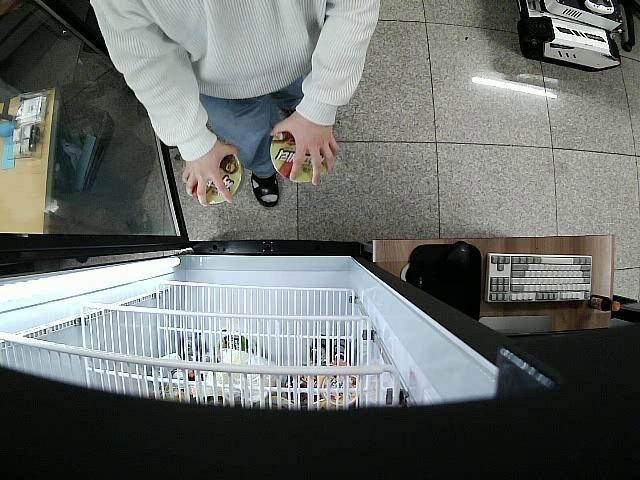03_chapagetti_L: (268, 126, 328, 184), (186, 150, 244, 205)
